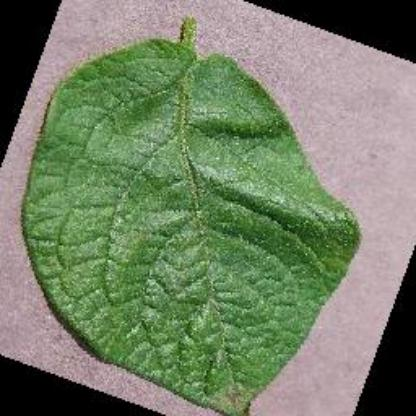Healthy-plant: (27, 15, 362, 415)
